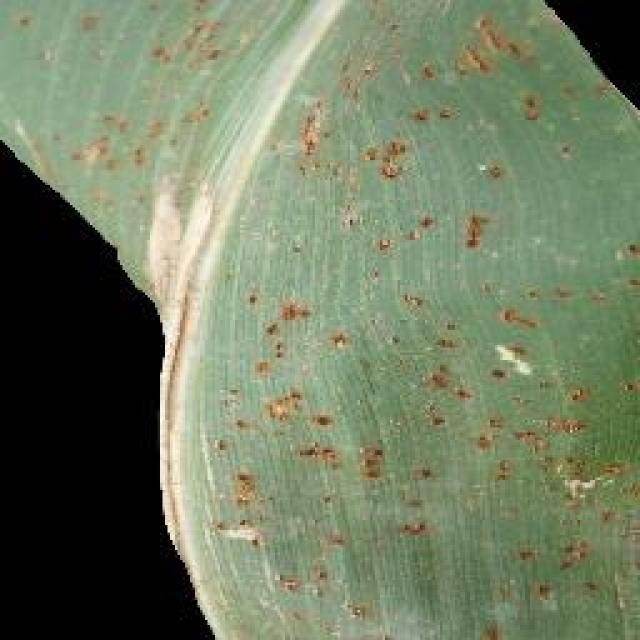Corn Common Rust: (205, 82, 560, 640)
